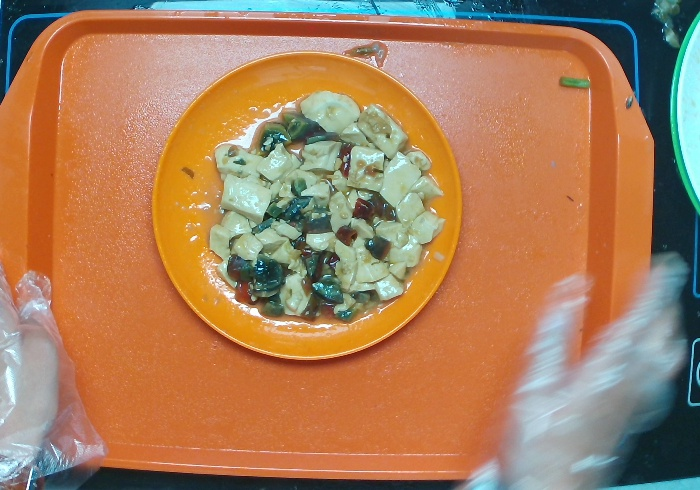HZYJPL-Ju_Huang_Yuan_Pan: (147, 42, 473, 367)
